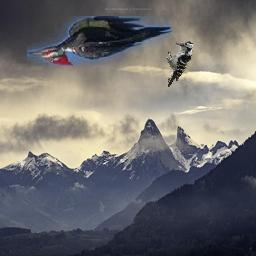Woodpecker: (28, 16, 173, 66), (167, 41, 193, 87)
